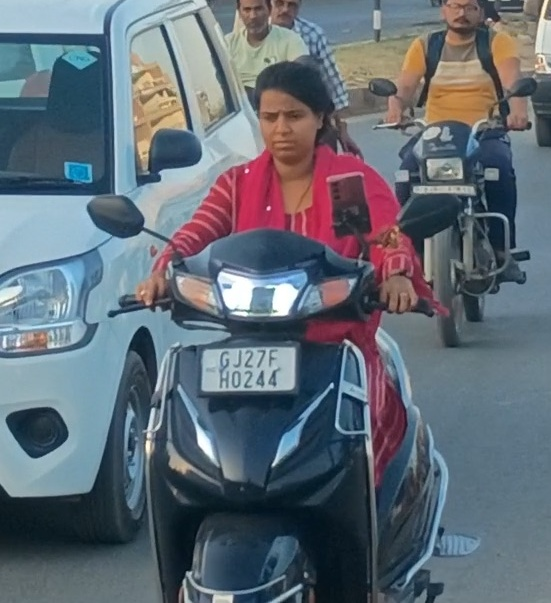BikeWithRider: (83, 57, 486, 603), (362, 1, 539, 354)
NoHelmet: (246, 57, 338, 171), (435, 0, 489, 37)
